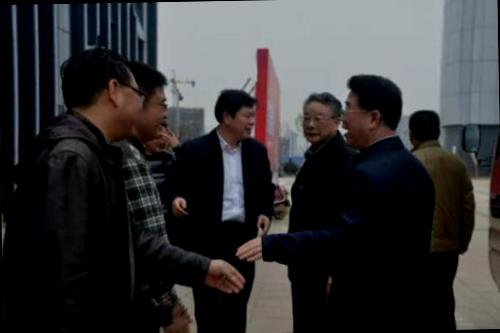no_helmet: (54, 44, 140, 143), (338, 70, 402, 146), (120, 60, 166, 144), (296, 88, 342, 146), (211, 86, 256, 140), (402, 106, 443, 152)
